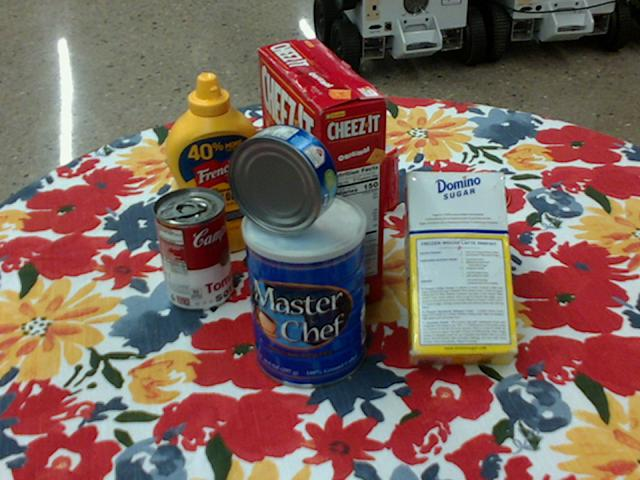cracker_box: (259, 38, 387, 312)
gelatin_box: (326, 126, 399, 211)
large_marker: (266, 78, 303, 130)
master_chef_can: (242, 192, 366, 391)
mug: (404, 173, 511, 282)
mustard_bottle: (165, 73, 266, 254)
potted_meat_can: (236, 121, 330, 217)
sugar_box: (403, 172, 519, 369)
tomato_soup_can: (152, 186, 232, 311)
tuna_fish_can: (227, 124, 338, 236)
